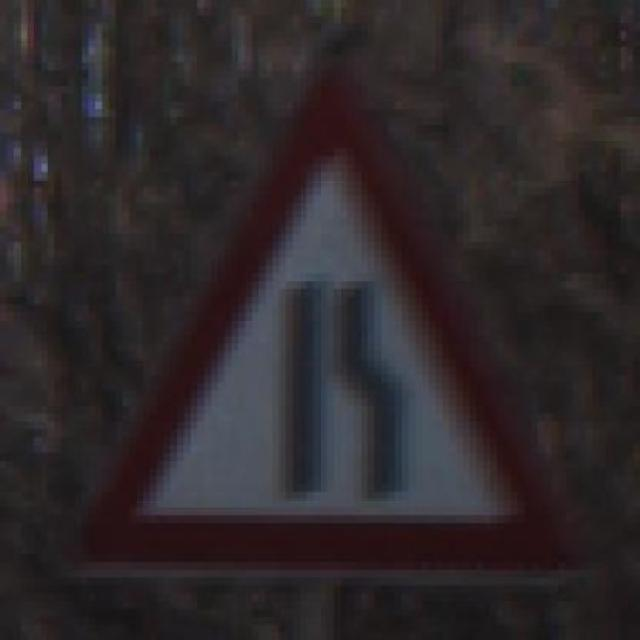-Road narrows on right: (74, 47, 572, 578)
